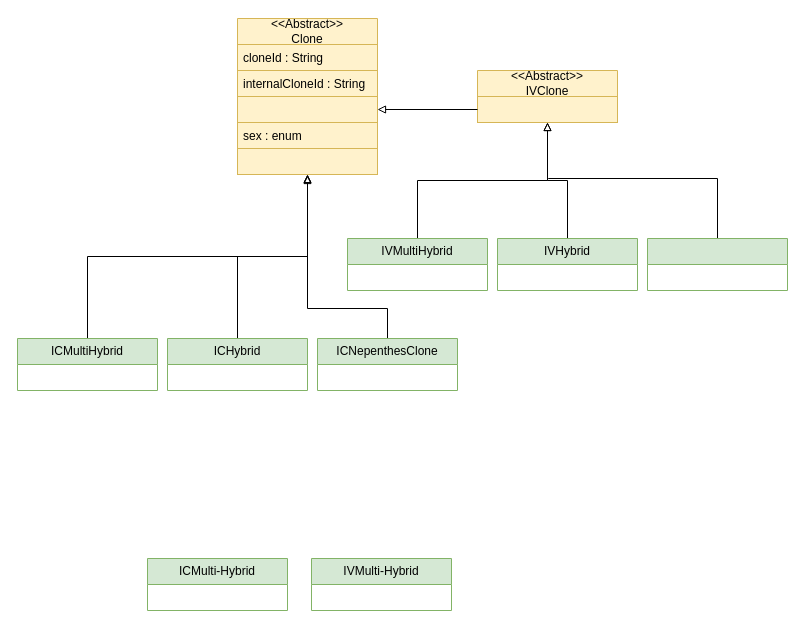
Some shapes in this 805 by 628 pixel diagram are drawn without their labels. Here are the shapes that lost their labels. From the top down, the centre of each, then its label:
(x=307, y=109): name : String
(x=547, y=109): producer: Producer
(x=307, y=161): grex: Grex
(x=717, y=264): IVNepenthesClone
